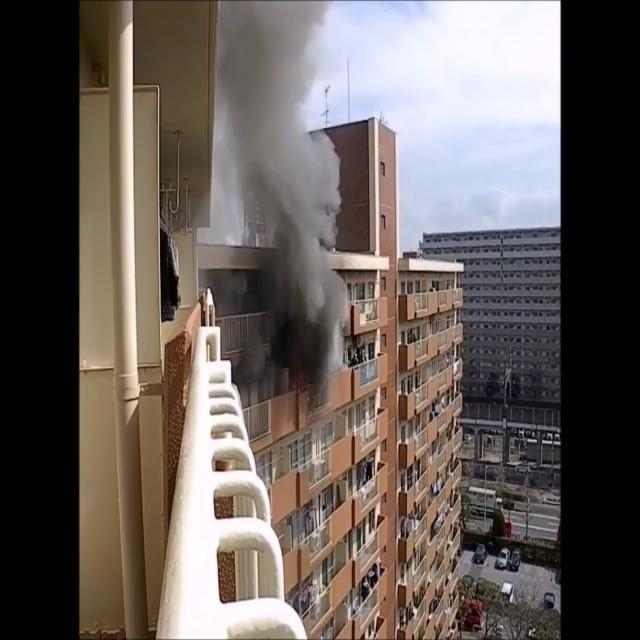Smoke: (201, 1, 349, 390)
